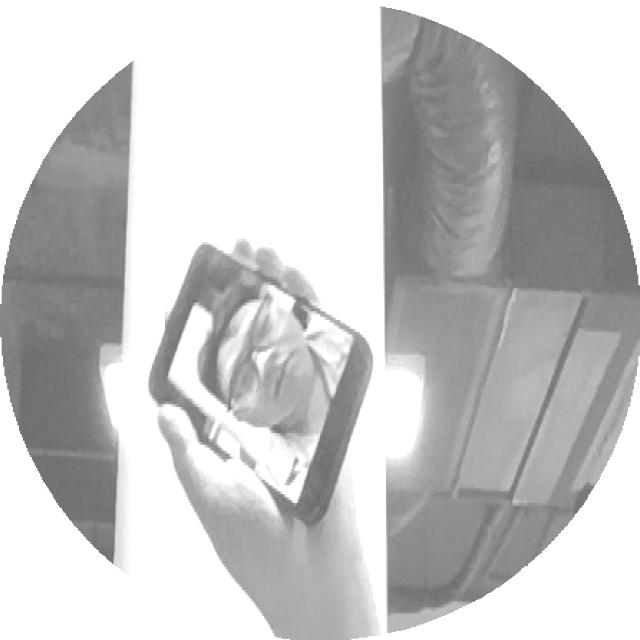fake: (127, 221, 405, 522), (142, 231, 387, 532)
